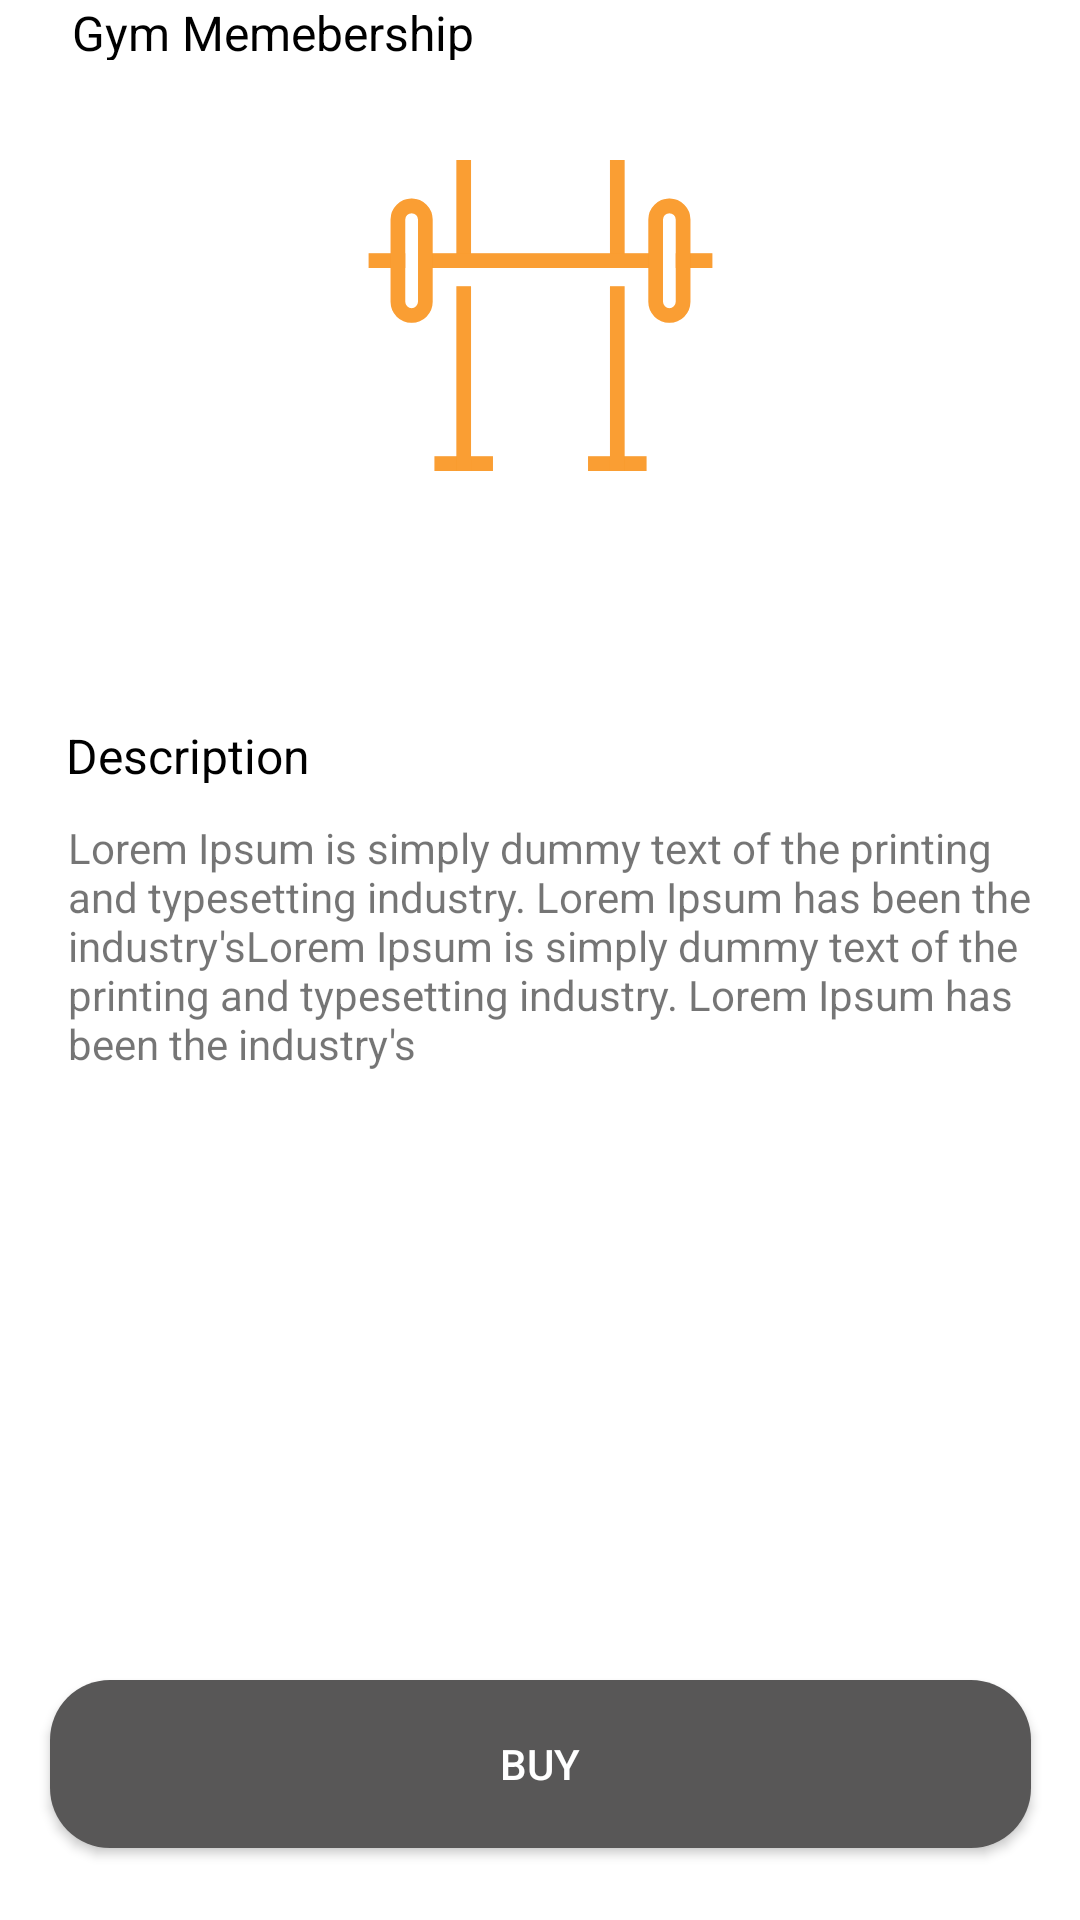

Icon bounding boxes for this 1080 x 1920 phone screenshot, format {"left": x1, "top": y1, "right": x2, "bottom": y2}:
power rack: {"left": 368, "top": 160, "right": 713, "bottom": 471}
